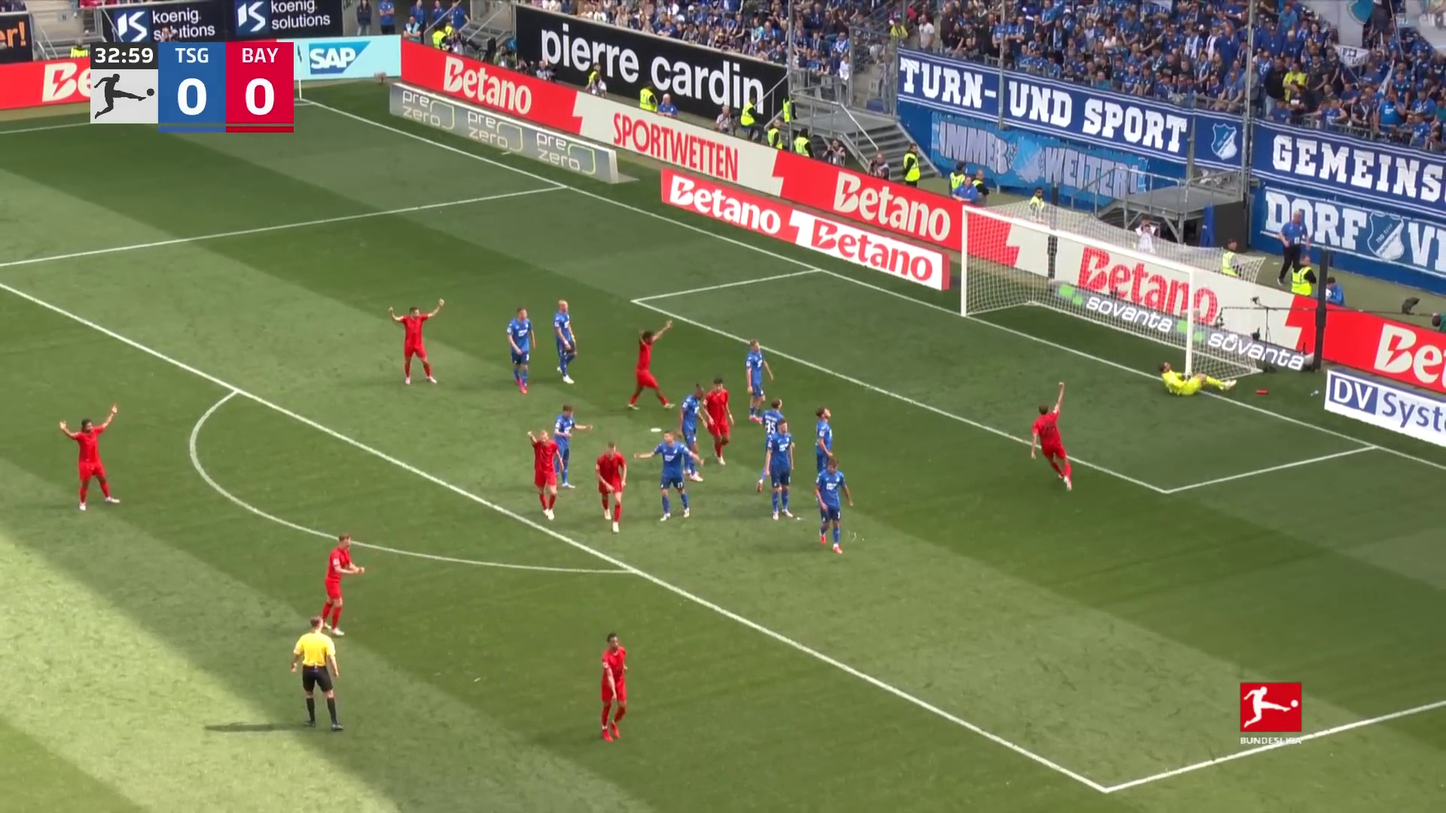player: (55, 401, 126, 513), (633, 426, 698, 524), (1025, 379, 1080, 494), (385, 298, 451, 388), (314, 531, 367, 637), (624, 323, 676, 413), (812, 456, 860, 553), (594, 630, 633, 744), (761, 420, 803, 523), (550, 402, 595, 491), (750, 398, 790, 493), (524, 426, 563, 523), (1154, 357, 1240, 399), (501, 305, 541, 395), (593, 439, 631, 533), (699, 377, 737, 470), (739, 338, 776, 421), (549, 297, 583, 386), (676, 382, 707, 478), (808, 405, 838, 493)
referee: (287, 617, 348, 733)
